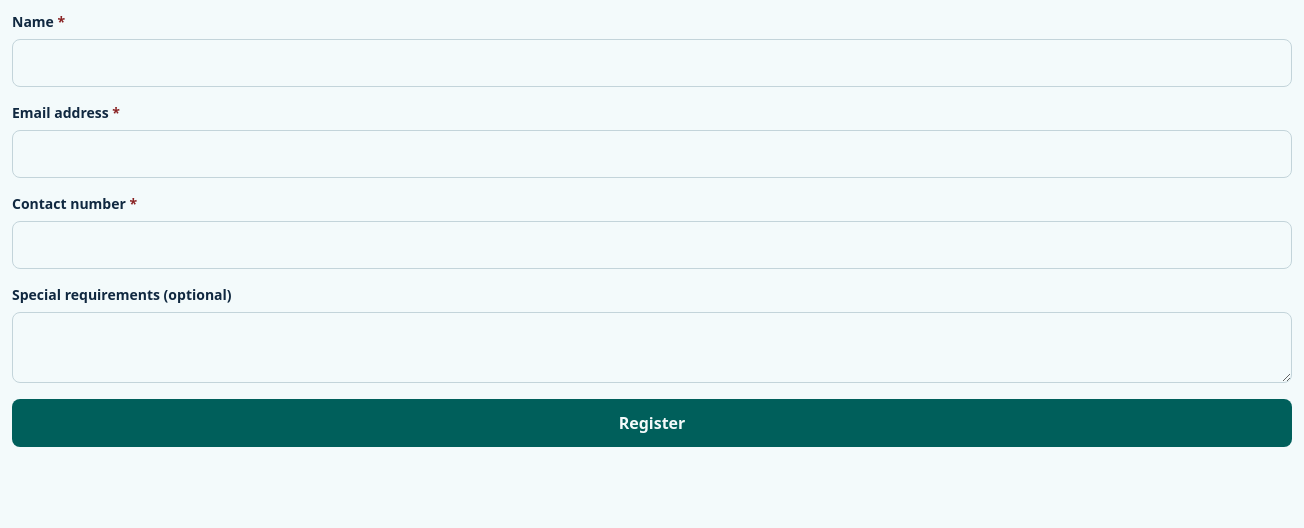
Scenario: [TC-SPL-116-13] shows a refusal that is not about one field, such as a full event
Type "Avery Koh" into the field labelled "Name" at point(652, 63), box [12,39,1292,87]
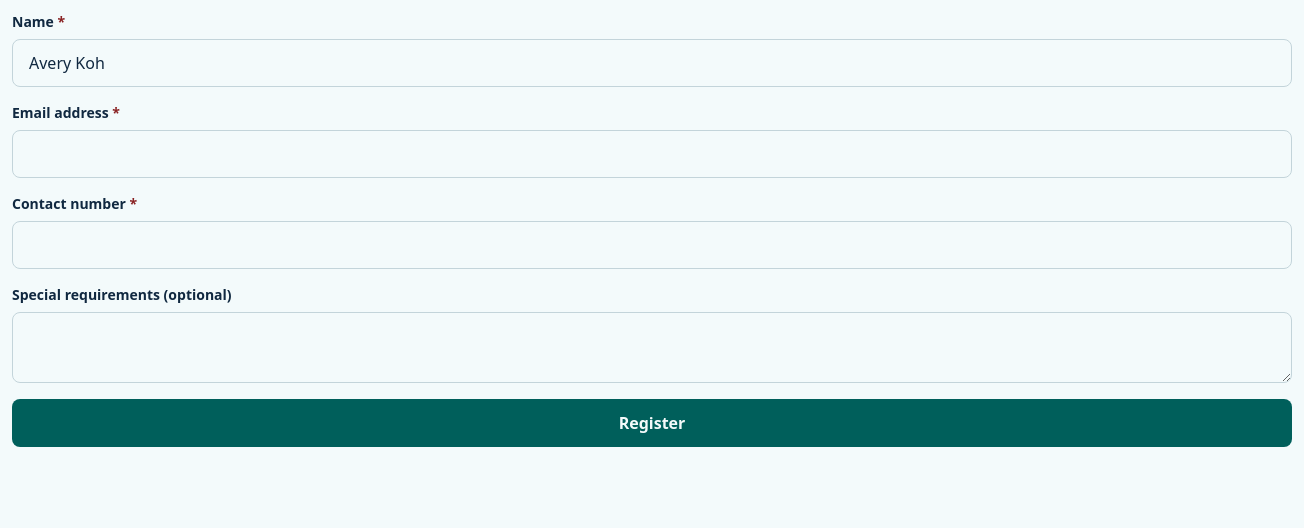
Type "avery@example.test" into the field labelled "Email address" at point(652, 154), box [12,130,1292,178]
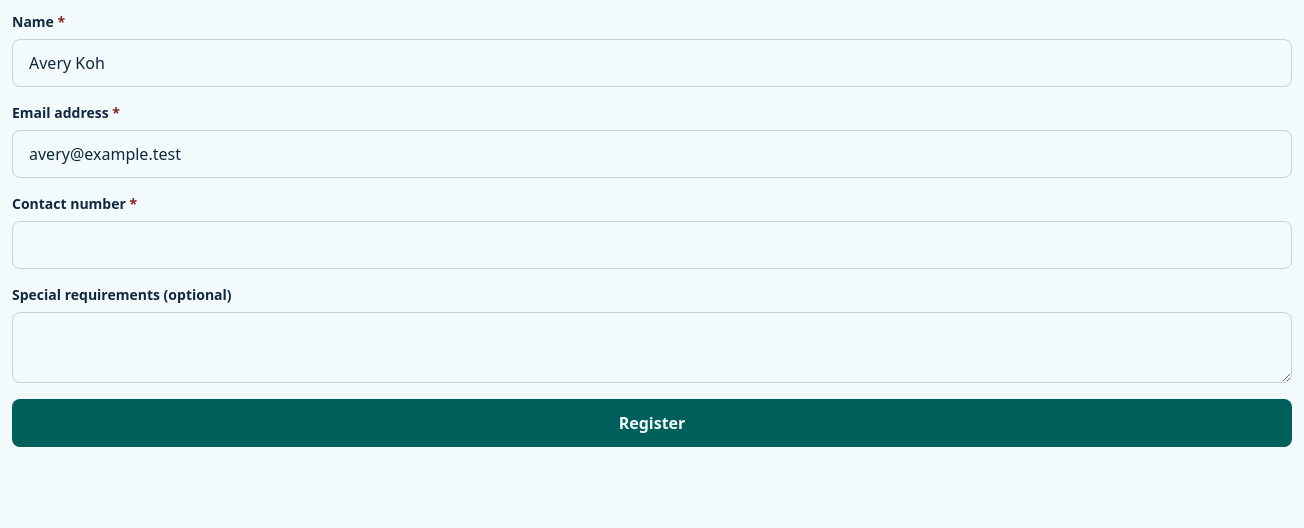
Type "91234567" into the field labelled "Contact number" at point(652, 245), box [12,221,1292,269]
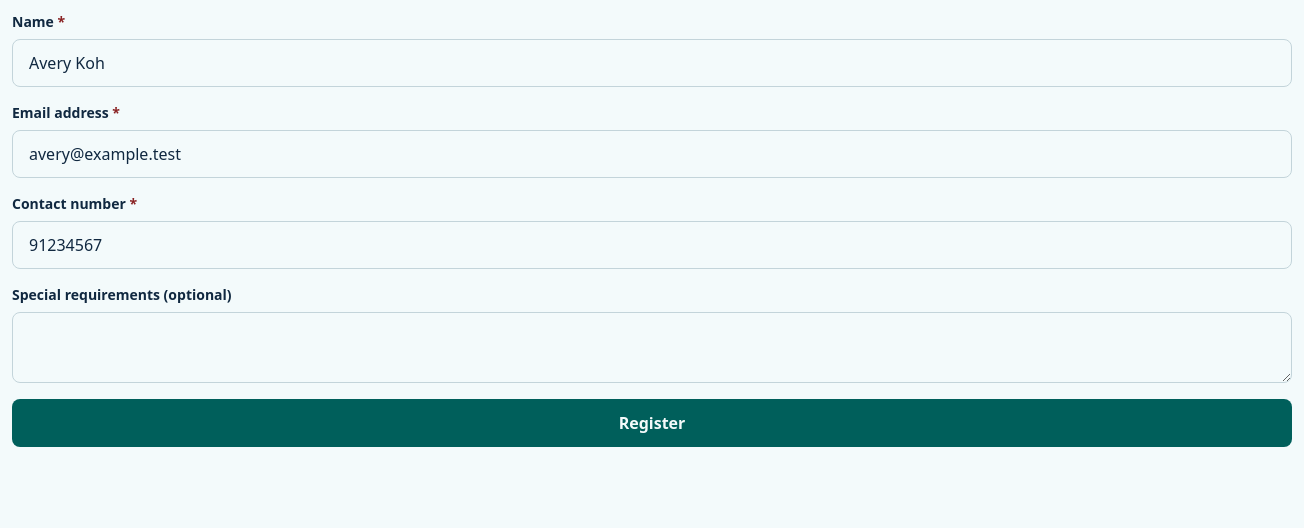
Click the button "Register" at point(652, 423), box [12,399,1292,447]
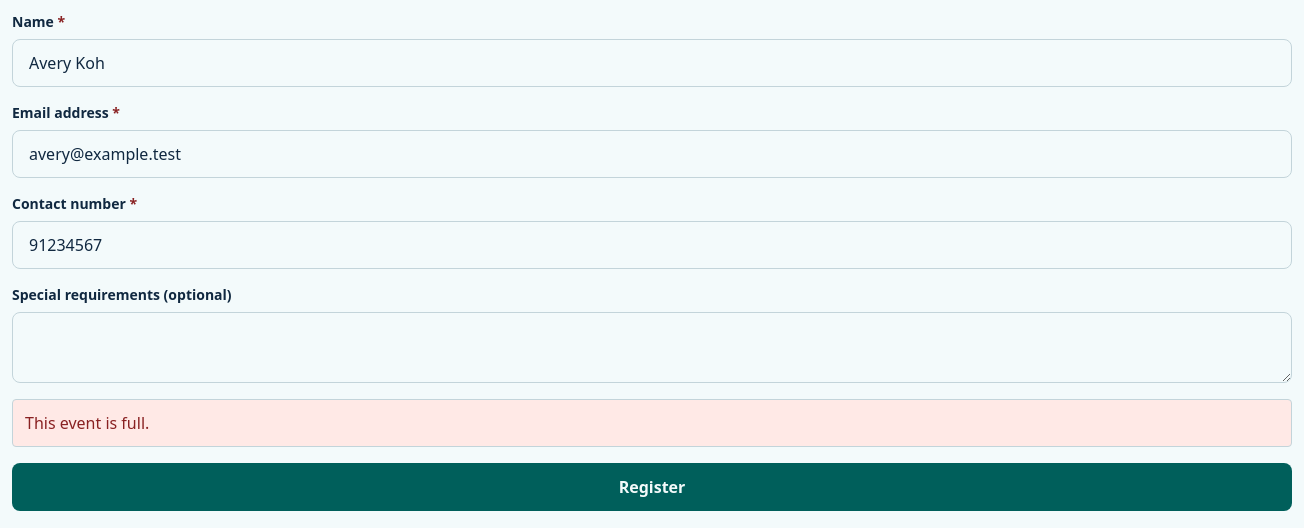
Expected: the message reads "This event is full.", [25,412,149,434]
